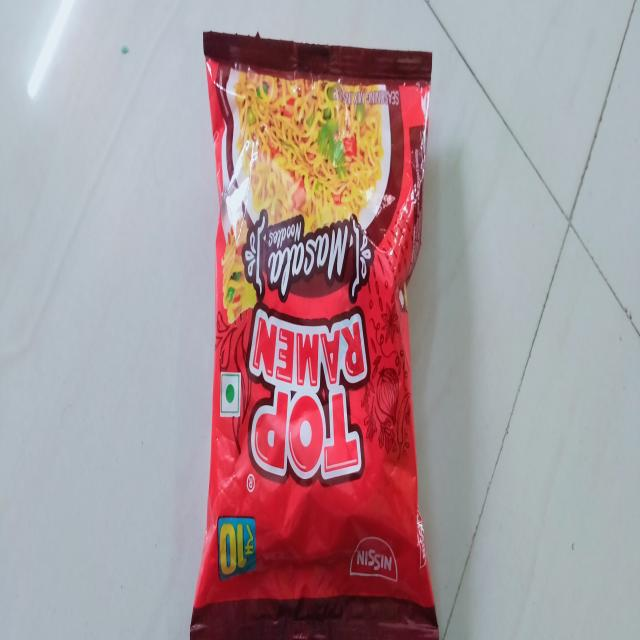maggi: (201, 19, 440, 640)
